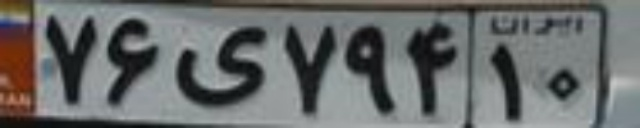0: (541, 69, 584, 101)
1: (487, 43, 524, 121)
4: (405, 21, 461, 115)
6: (105, 18, 158, 104)
7: (280, 24, 338, 112), (45, 14, 95, 103)
9: (341, 24, 394, 114)
ye: (173, 24, 269, 104)
